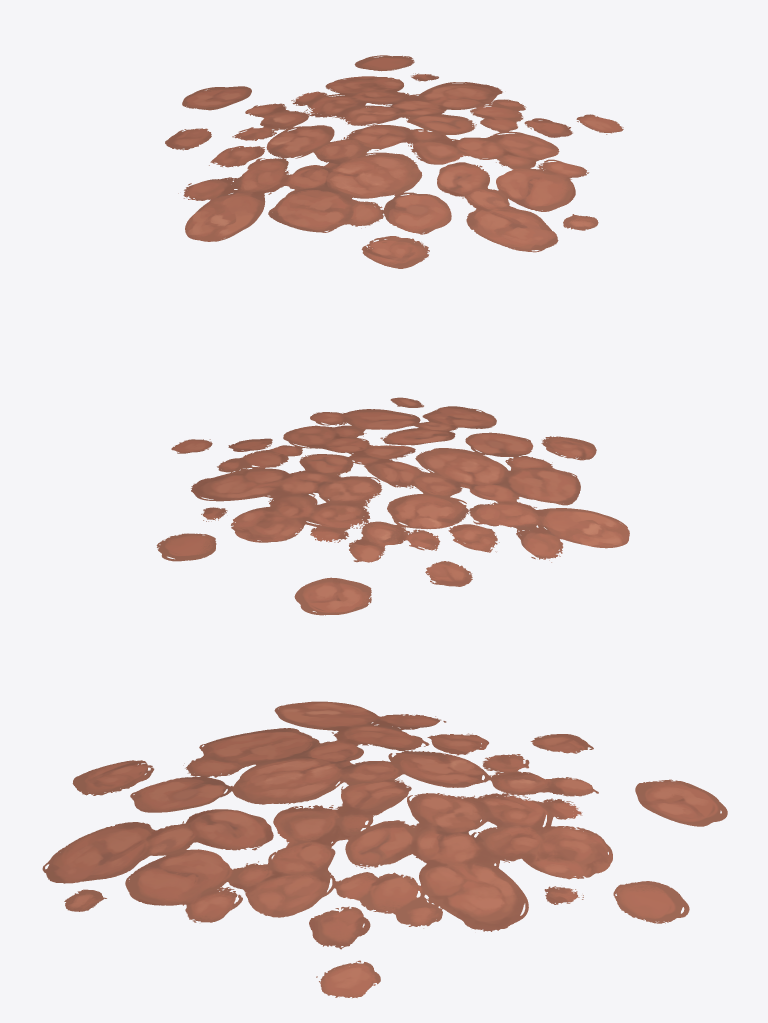
The model's file is PebblesMedium.fbx.
3 renders of one model, top to bottom at view 1: azimuth 30°, elevation 25°; view 2: azimuth 150°, elevation 25°; view 3: azimuth 270°, elevation 25°, orthographic. The views are drawn at different scales.
Parts seen in each view (by area): view 1: Rock_Medium; view 2: Rock_Medium; view 3: Rock_Medium.
Part boxes in pixels (left/top/right/bottom): Rock_Medium: left=165, top=55, right=623, bottom=268; Rock_Medium: left=156, top=397, right=629, bottom=615; Rock_Medium: left=42, top=701, right=727, bottom=998.
Bounding box in the file's own units: 100 × 8.46 × 100.
